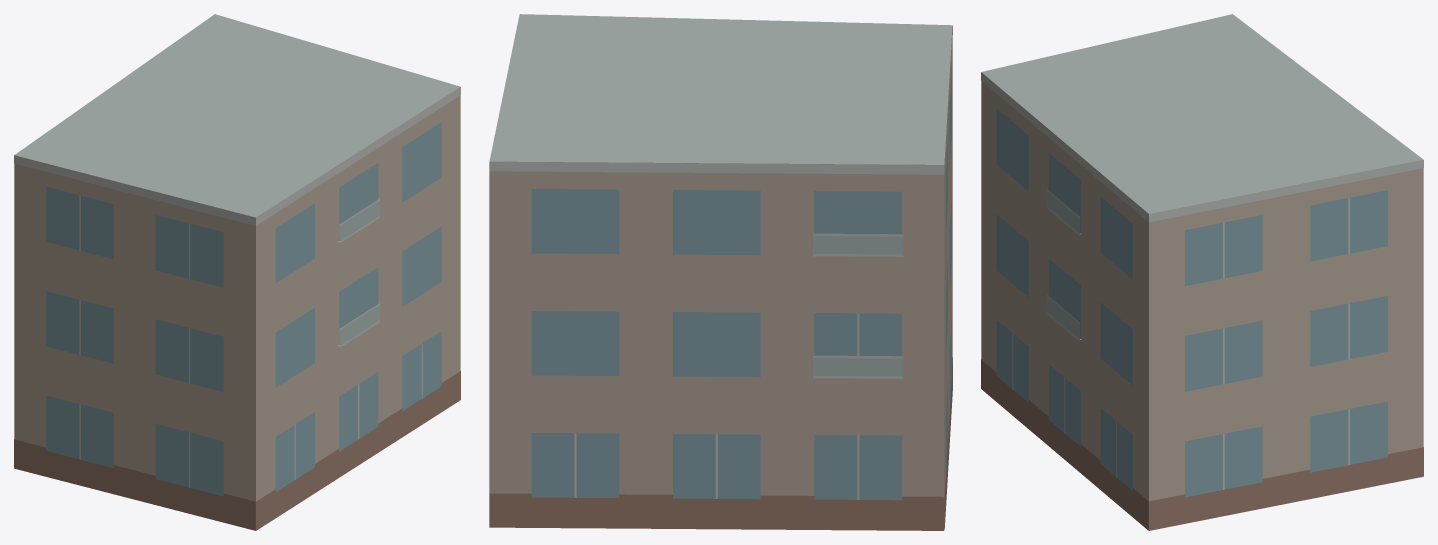
Rendered from survey-upis-32963923.glb.
3 views of the same model, side by side, from view 1: azimuth 30°, elevation 25°; view 2: azimuth 150°, elevation 25°; view 3: azimuth 270°, elevation 25° (orthographic). The views are drawn at different scales.
Parts seen in each view (by area): view 1: survey-upis-32963923.tmp; view 2: survey-upis-32963923.tmp; view 3: survey-upis-32963923.tmp.
Boxes of the visible parts, <box> form: survey-upis-32963923.tmp: <box>14,14,460,530</box>; survey-upis-32963923.tmp: <box>489,14,952,530</box>; survey-upis-32963923.tmp: <box>981,14,1423,530</box>.
Bounding box in the file's own units: 12.39 × 9.15 × 11.59.
